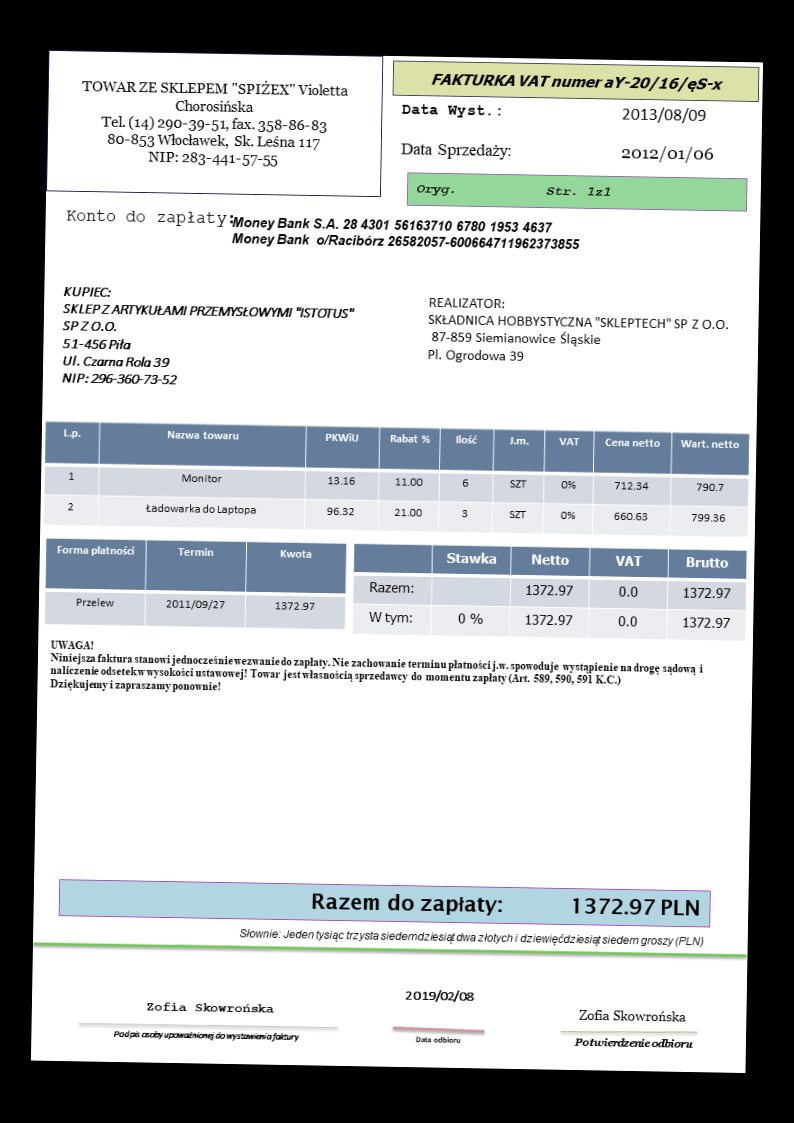Table: (42, 418, 752, 538), (351, 541, 749, 644), (43, 536, 349, 631)
TextBox: (45, 633, 709, 704), (58, 282, 359, 395), (73, 74, 353, 174), (422, 291, 732, 371), (306, 884, 702, 924), (227, 213, 583, 253), (236, 924, 706, 950), (429, 66, 730, 94), (413, 176, 615, 201), (62, 206, 235, 230), (111, 1027, 302, 1043), (396, 138, 512, 161), (397, 97, 505, 121), (143, 998, 277, 1016), (576, 1005, 693, 1025), (616, 141, 716, 164), (619, 101, 710, 126), (570, 1036, 696, 1051), (402, 985, 478, 1004), (412, 1031, 463, 1049)
